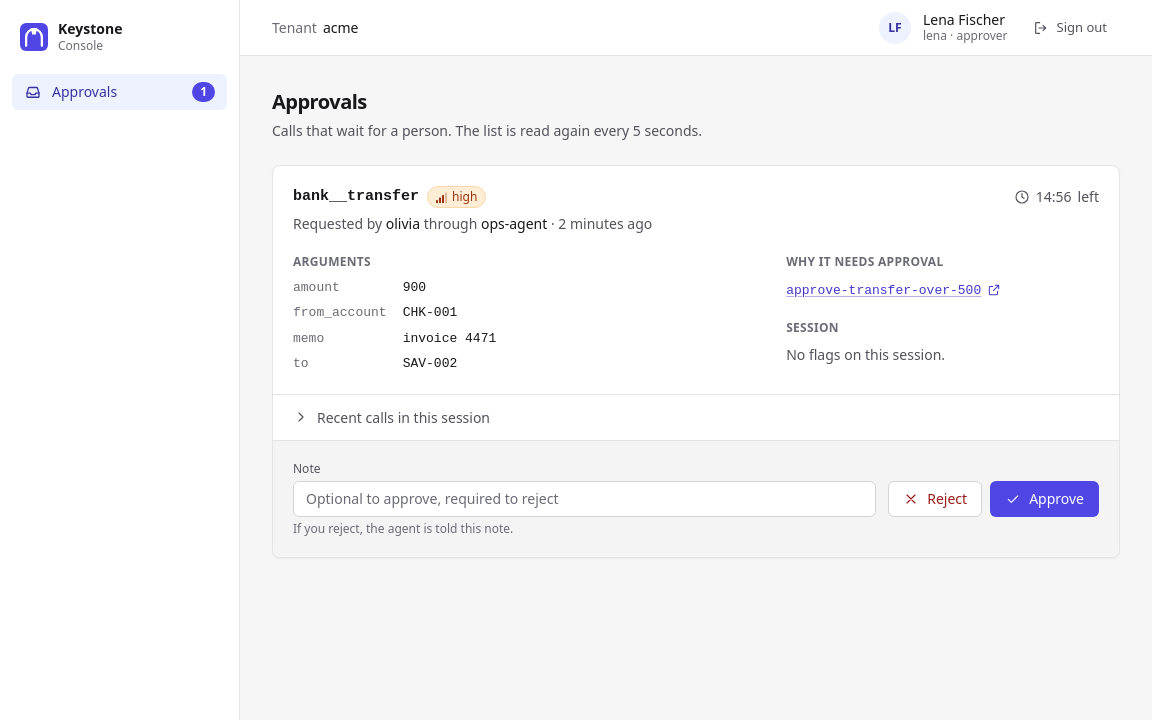
Test: handles already decided
The image size is (1152, 720).
Click the button "Approve".
click(1045, 498)  # box [990,480,1099,516]
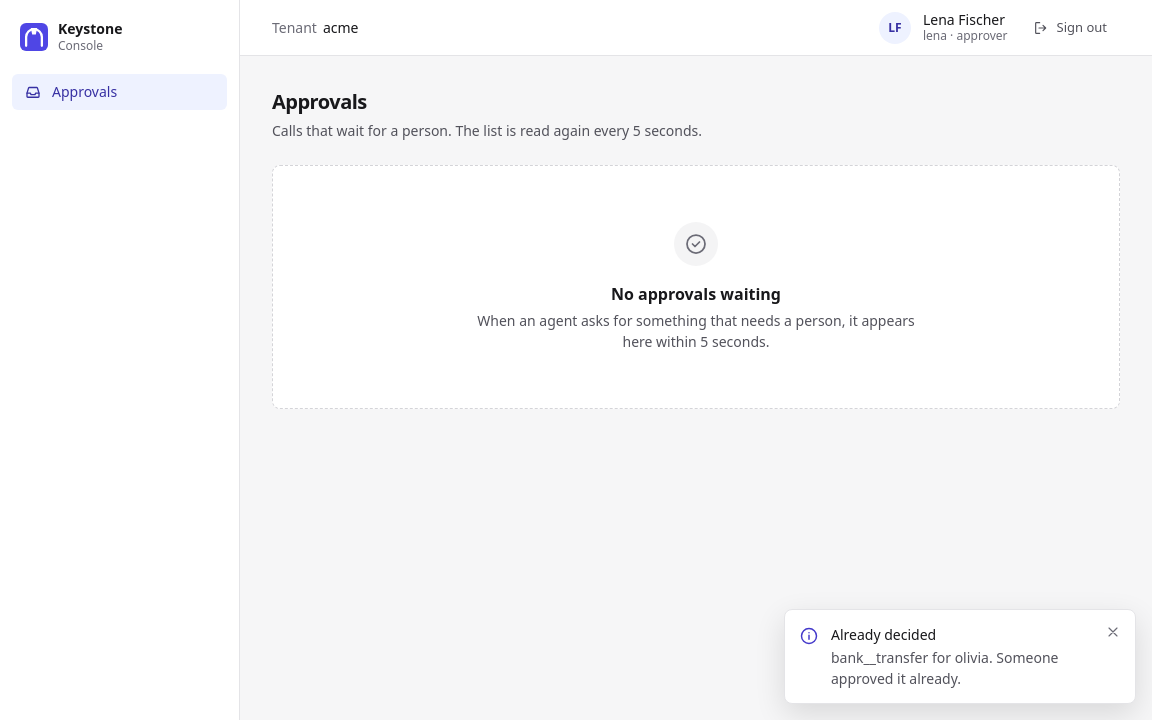
Expected: the text "Already decided" is shown, [831,625,936,644]
Expected: the text "bank__transfer for olivia. Someone approved it already." is shown, [831,647,1093,689]
